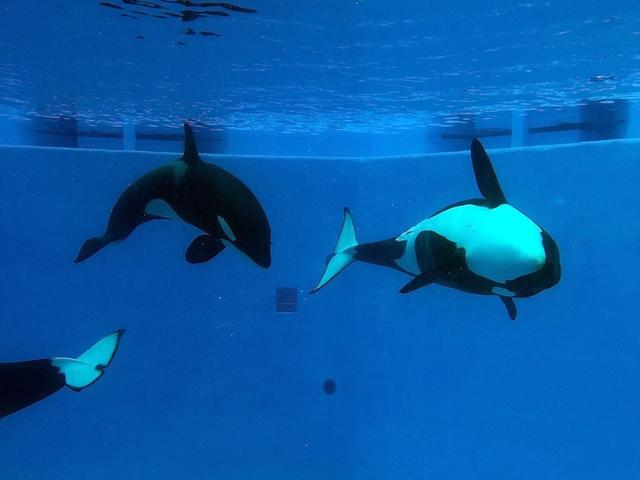dolphin: (127, 171, 354, 278)
